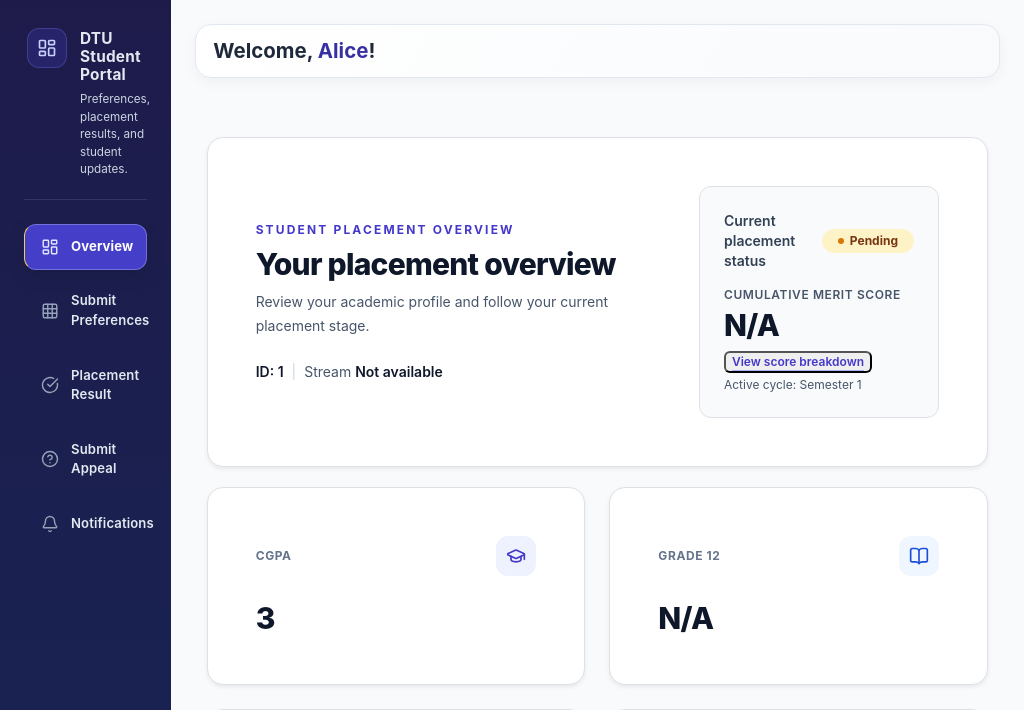
Scenario: StudentDashboard › shows the student overview and opens the preference form
Check: the number of headings "Welcome, Alice!" is 1, box [213,39,375,63]
Check: the text "CGPA" is shown, box [256,548,292,564]
Click the button "Submit Preferences" at (85,311), box [24,278,147,344]
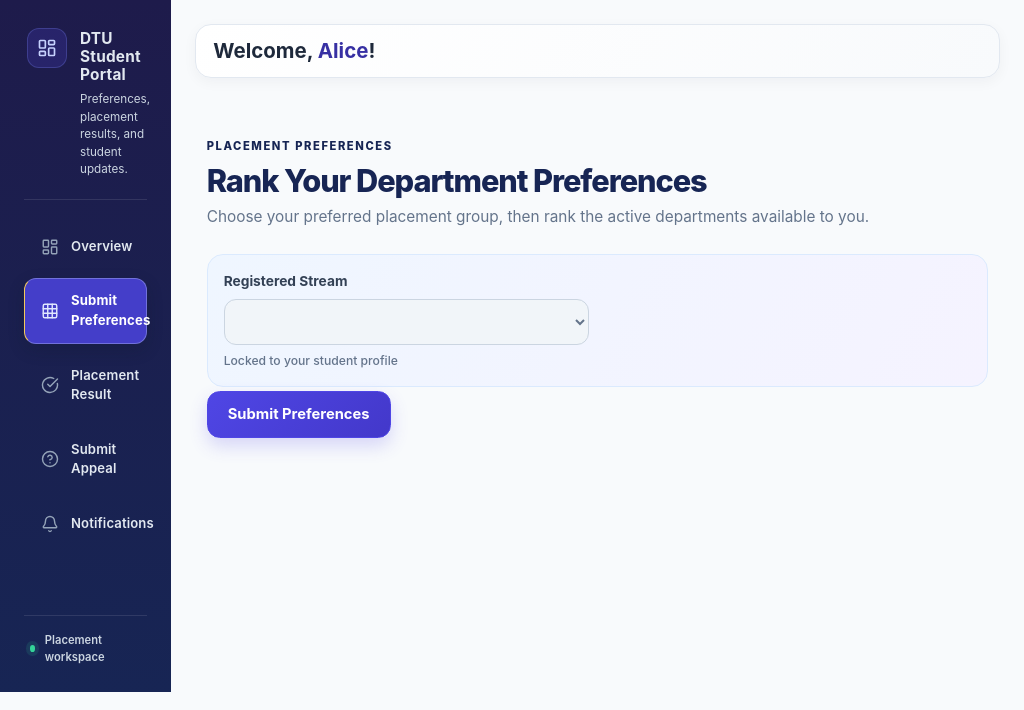
Check: the heading "Rank Your Department Preferences" is shown, box [207,162,707,199]
